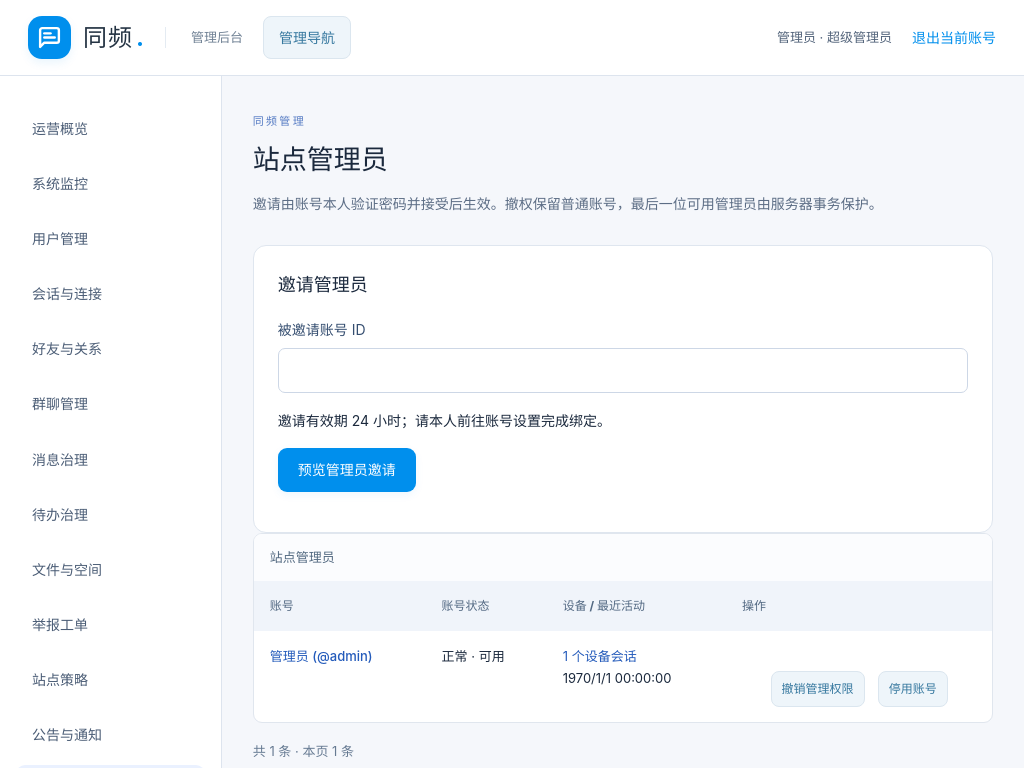
Test case: S3 command parameters and actual receipts › shows the actual last-admin refusal before reauthentication
The image size is (1024, 768).
Click the button "撤销管理权限": (818, 689) [771,671,865,707]
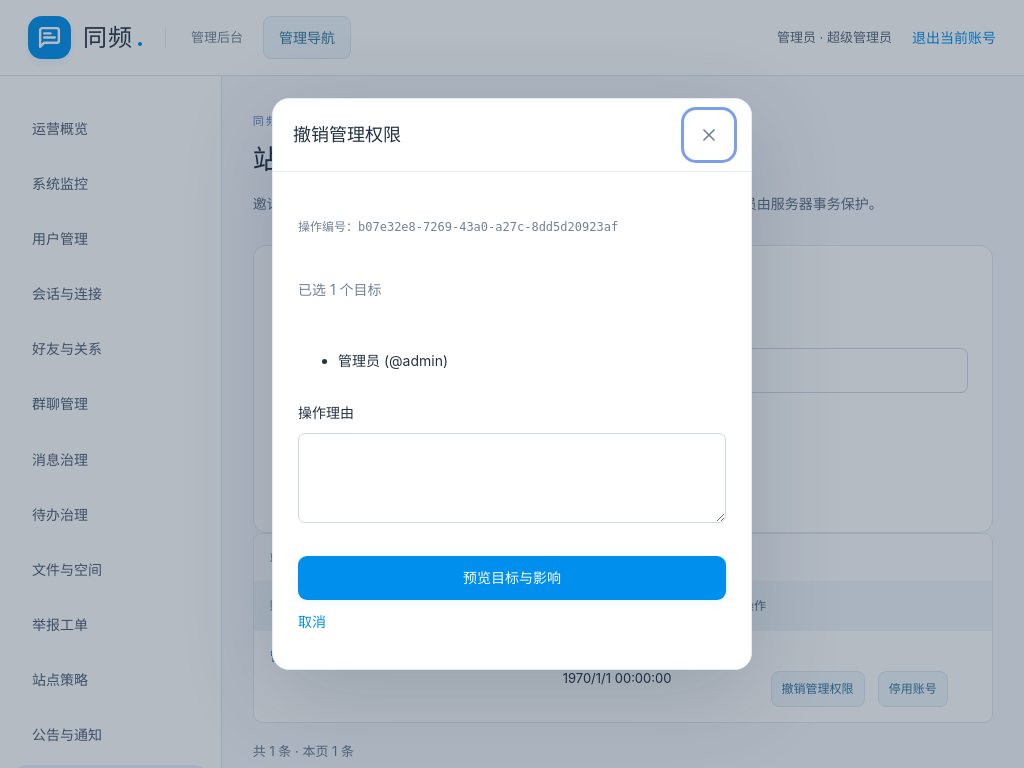
In the text box labelled "操作理由": (512, 478) [298,433,726,523], type "核实管理员调整"
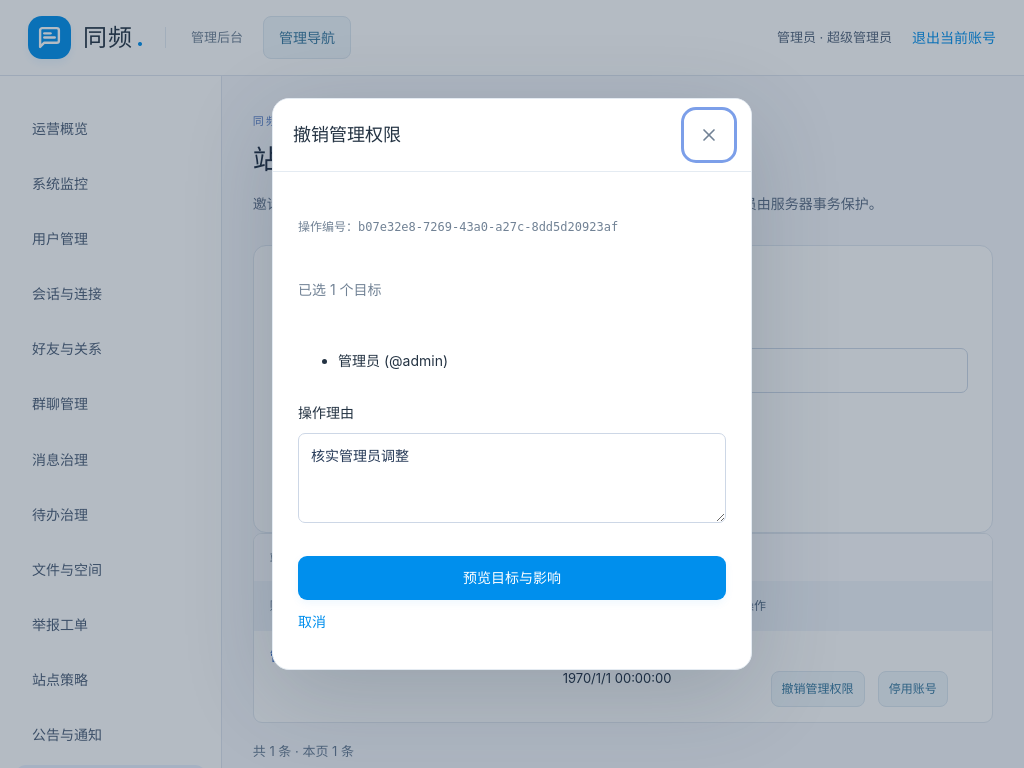
Click the button "预览目标与影响": (512, 578) [298,556,726,600]
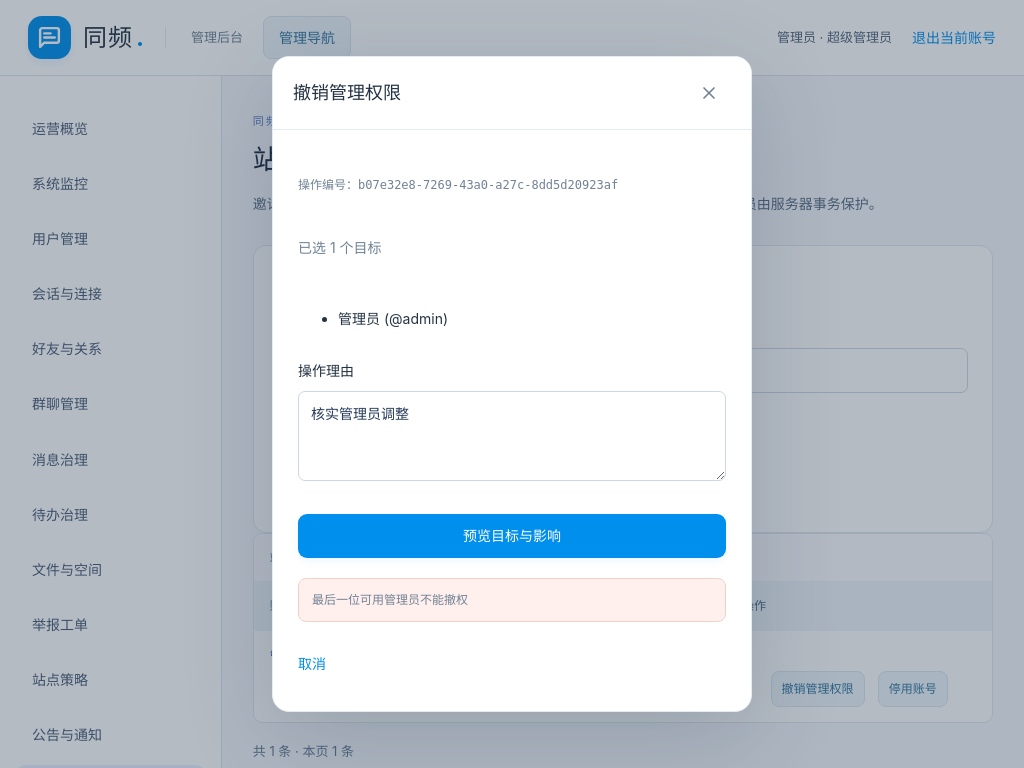
Result: the text "最后一位可用管理员不能撤权" is shown at [298,578,726,622]
